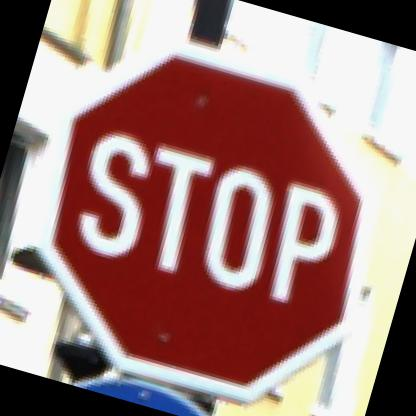stop: (0, 9, 413, 415)
